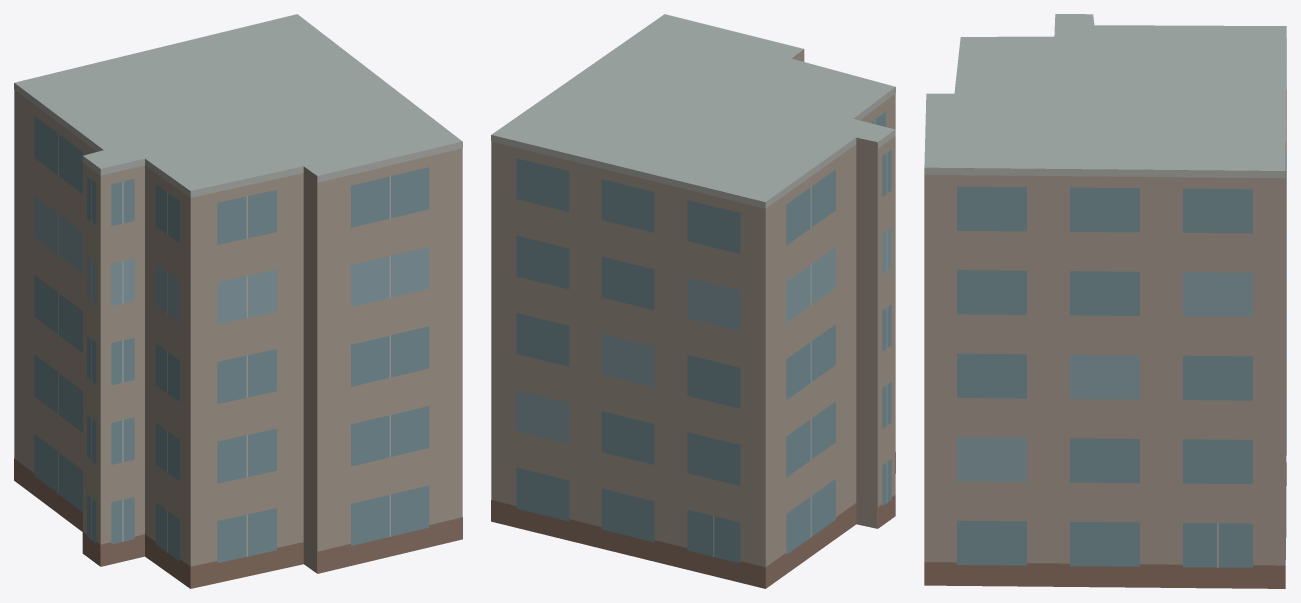
The model's file is survey-upis-32966862.glb.
3 views of the same model, side by side, from view 1: azimuth 30°, elevation 25°; view 2: azimuth 150°, elevation 25°; view 3: azimuth 270°, elevation 25° (orthographic). The views are drawn at different scales.
Visible parts, largest first — view 1: survey-upis-32966862.tmp; view 2: survey-upis-32966862.tmp; view 3: survey-upis-32966862.tmp.
Boxes of the visible parts, bbox=[...] form: survey-upis-32966862.tmp: bbox=[14, 14, 462, 588]; survey-upis-32966862.tmp: bbox=[491, 14, 895, 588]; survey-upis-32966862.tmp: bbox=[924, 14, 1286, 588].
Bounding box in the file's own units: 11.53 × 14.3 × 11.24.
